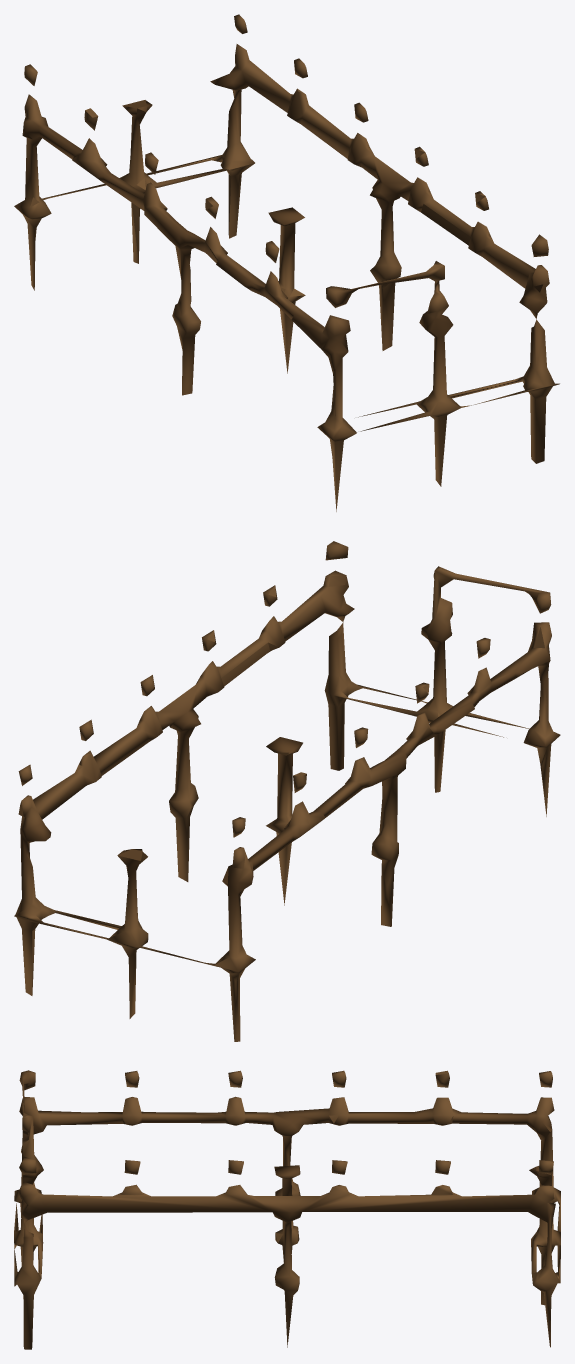
File: Wooden Platforms.glb
3 views of the same model, one above another, from view 1: azimuth 30°, elevation 25°; view 2: azimuth 150°, elevation 25°; view 3: azimuth 270°, elevation 25° (orthographic). The views are drawn at different scales.
Parts seen in each view (by area): view 1: Root.001, Root.002; view 2: Root.001, Root.002; view 3: Root.001, Root.002.
Boxes of the visible parts, bbox=[...] form: Root.001: bbox=[14, 44, 559, 511]; Root.002: bbox=[268, 207, 305, 373]; Root.001: bbox=[14, 566, 560, 1041]; Root.002: bbox=[266, 737, 302, 905]; Root.001: bbox=[14, 1070, 560, 1349]; Root.002: bbox=[274, 1165, 300, 1262].
Size of the model in its own units: 2.98 by 2.75 by 7.14.
